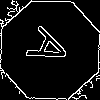A: (25, 25, 81, 75)
